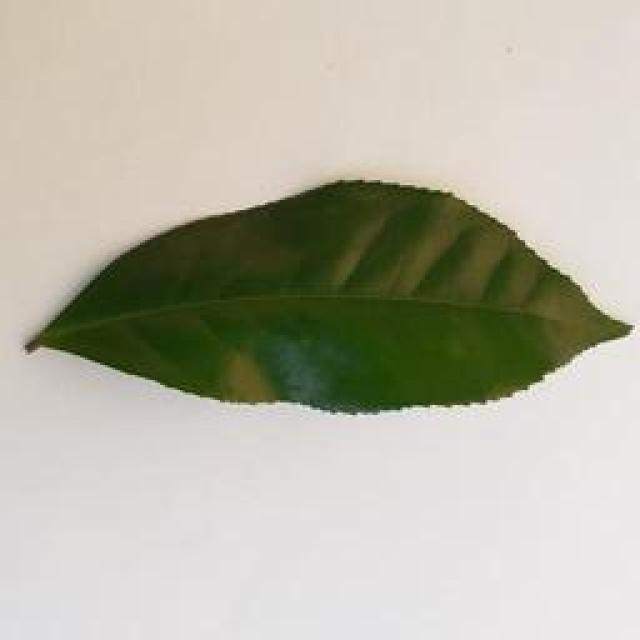Healthy: (4, 175, 630, 449)
